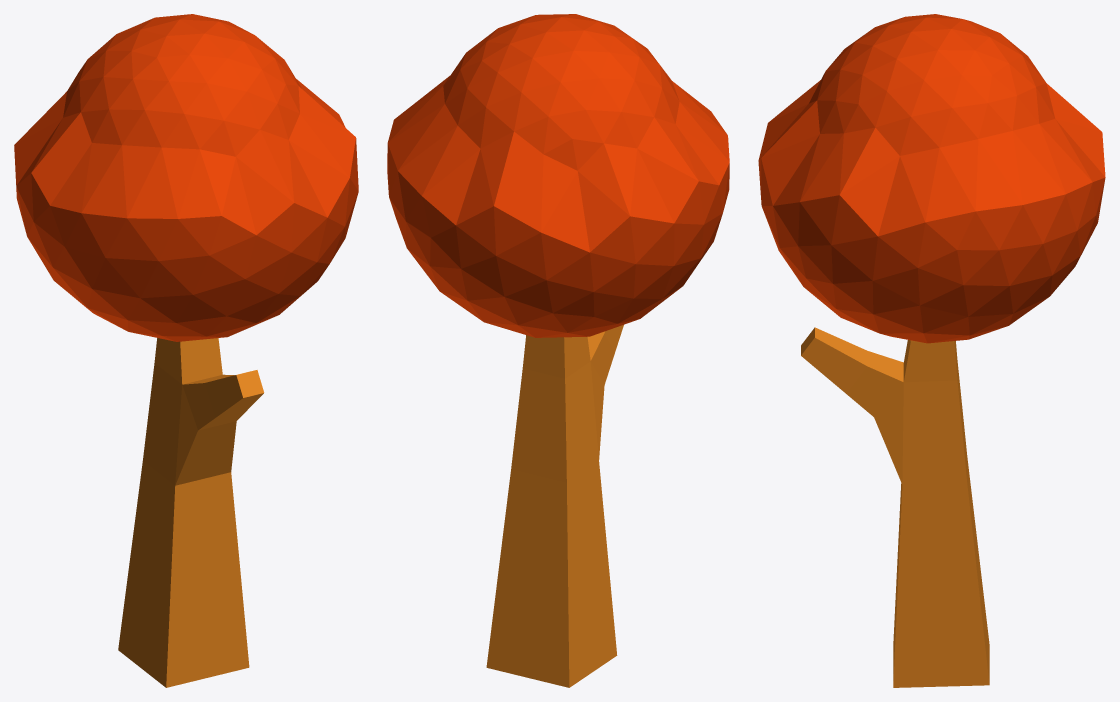
File: SweerTrees4.fbx
The picture shows the model from 3 angles, left to right: view 1: azimuth 30°, elevation 25°; view 2: azimuth 150°, elevation 25°; view 3: azimuth 270°, elevation 25°; orthographic projection.
Parts seen in each view (by area): view 1: Icosphere.005, Cube.002; view 2: Icosphere.005, Cube.002; view 3: Icosphere.005, Cube.002.
Boxes of the visible parts, <box> form: Icosphere.005: <box>14,14,358,341</box>; Cube.002: <box>118,338,264,687</box>; Icosphere.005: <box>387,14,729,337</box>; Cube.002: <box>486,325,623,687</box>; Icosphere.005: <box>758,14,1105,343</box>; Cube.002: <box>801,327,989,687</box>.
Size of the model in its own units: 1.51 by 3.07 by 1.51.
